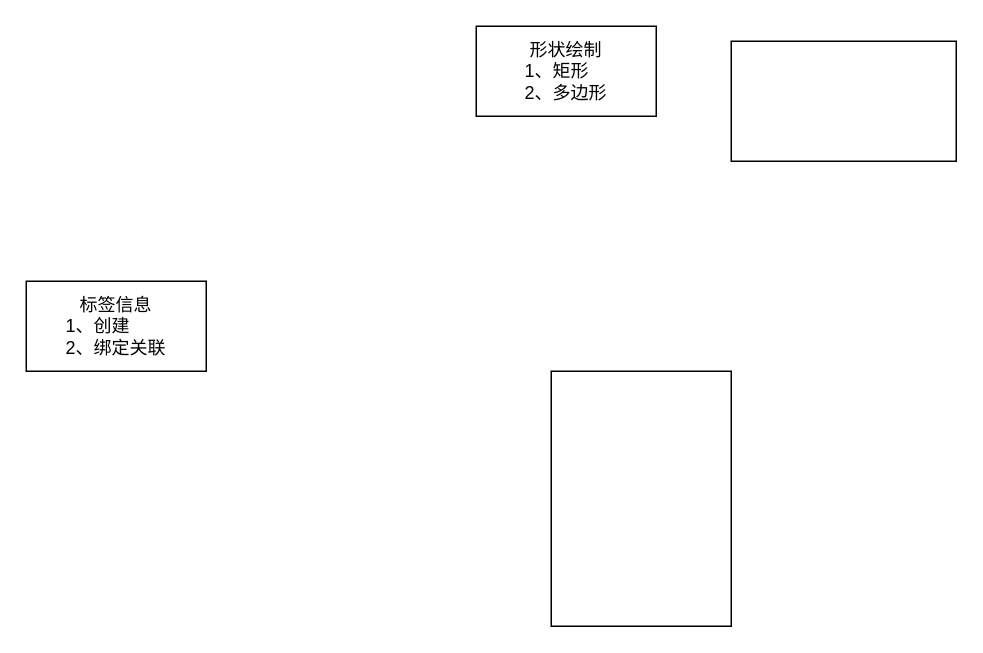
The diagram is 983 pixels wide and 653 high, and some of its shapes have lost their labels. The centre of each missing label's shape, as x and y in pixels:
"形状编辑 1、点移动 2、点增加 3、形状移动 4、形状增加、减少" goes at (x=843, y=100).
"画布 1、支持缩放 2、加载图片 3、键鼠响应 4、" goes at (x=640, y=498).
